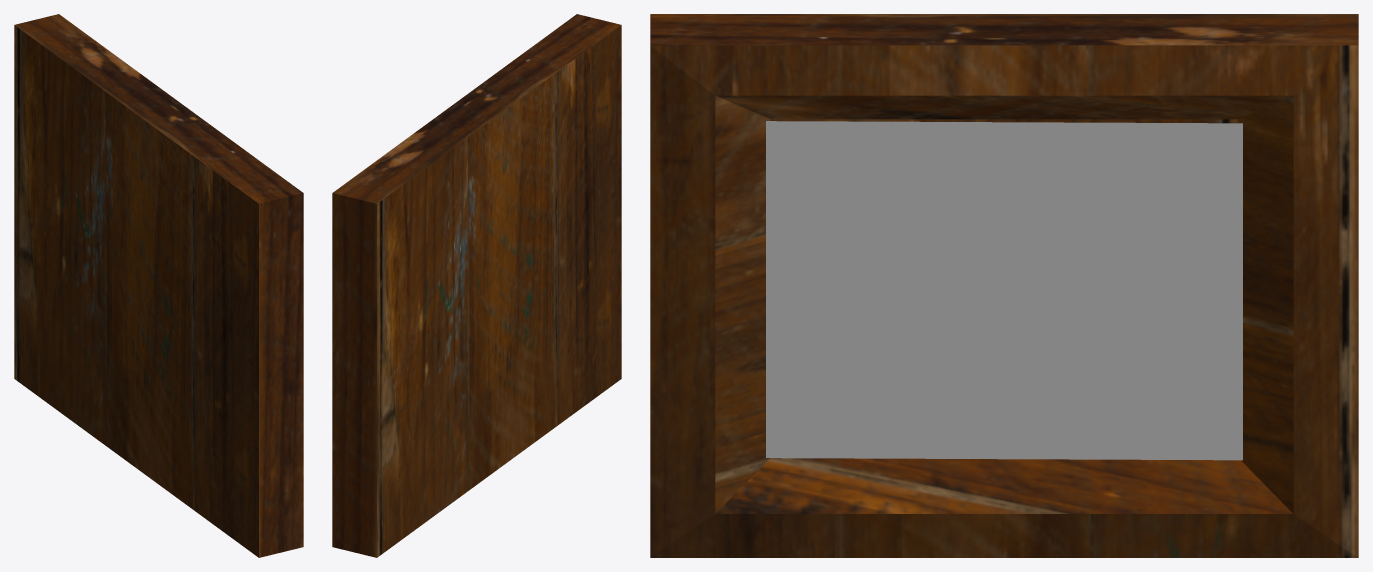
Rendered from family picture frame asset.fbx.
3 views of the same model, side by side, from view 1: azimuth 30°, elevation 25°; view 2: azimuth 150°, elevation 25°; view 3: azimuth 270°, elevation 25° (orthographic). The views are drawn at different scales.
Visible parts, largest first — view 1: Cube; view 2: Cube; view 3: Cube, Plane.
Part boxes in pixels (<box>): Cube: <box>14,14,303,557</box>; Cube: <box>332,14,621,557</box>; Cube: <box>650,14,1358,557</box>; Plane: <box>766,121,1242,460</box>.
Bounding box in the file's own units: 80.64 × 556 × 696.
